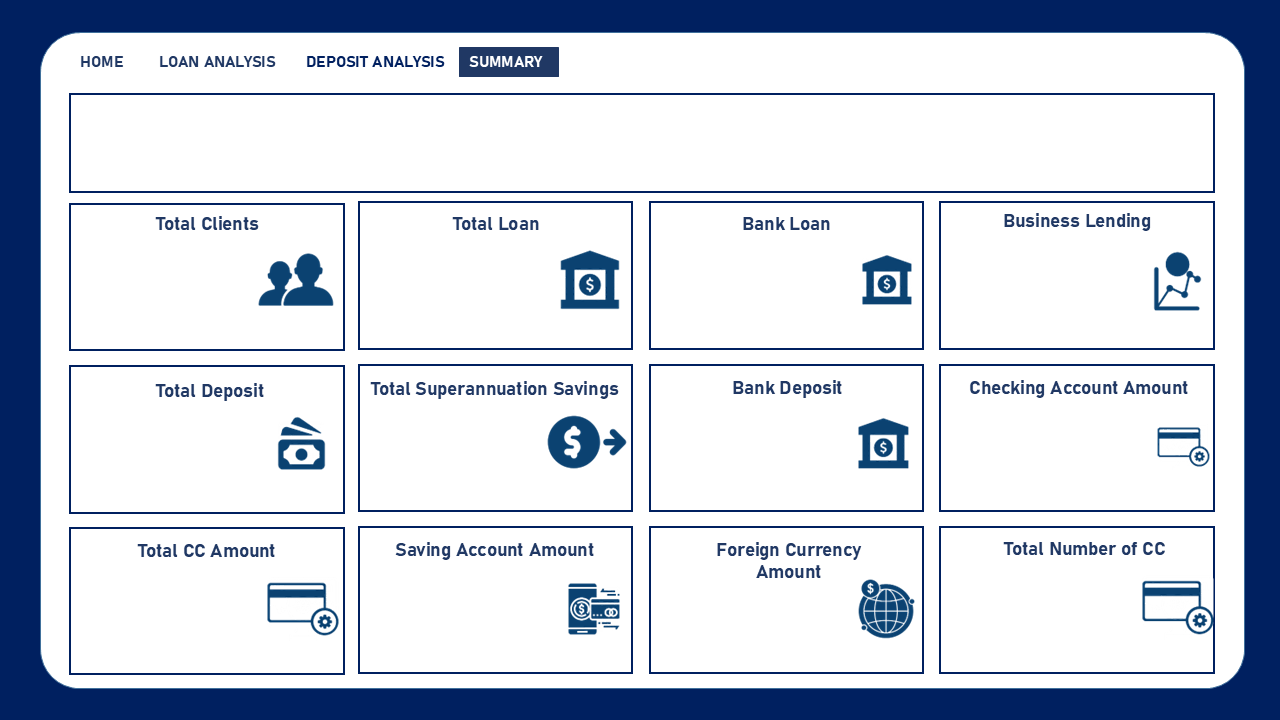

What the dashboard file says about the page in this screenshot:
{"tool":"powerbi","page":{"name":"Summary","canvas":[1280,720],"ordinal":3},"visuals":[{"type":"card","fields":{"Values":["CountNonNull(banking-clients.Name)"]},"box":[73.6,248.5,176.1,72.4],"z":0},{"type":"card","fields":{"Values":["banking-clients.Total Loan"]},"box":[376.4,248.5,176.1,72.4],"z":1000},{"type":"card","fields":{"Values":["banking-clients.Total deposit"]},"box":[73.6,408.3,176,72.1],"z":2000},{"type":"card","fields":{"Values":["Sum(banking-clients.Superannuation Savings)"]},"box":[378,415.5,173.1,59.2],"z":3000},{"type":"actionButton","box":[61.5,48.3,78.4,29],"z":4000},{"type":"actionButton","box":[149.6,48.3,136.3,29],"z":5000},{"type":"actionButton","box":[292.9,46.2,152.9,30.3],"z":6000},{"type":"slicer","fields":{"Values":["banking-clients.Year"]},"box":[822.4,111.1,369.3,64.9],"z":7000},{"type":"slicer","fields":{"Values":["banking-clients.GenderId"]},"box":[73.6,111.1,385.2,64.9],"z":8000},{"type":"slicer","fields":{"Values":["banking-clients.IAId"]},"box":[445.8,111.1,369.3,64.9],"z":9000},{"type":"card","fields":{"Values":["Sum(banking-clients.Bank Loans)"]},"box":[690.1,254.6,148.4,59.1],"z":10000},{"type":"card","fields":{"Values":["Sum(banking-clients.Saving Accounts)"]},"box":[379.4,582.9,173.1,59.2],"z":11000},{"type":"card","fields":{"Values":["Sum(banking-clients.Credit Card Balance)"]},"box":[76.5,582.9,173.1,59.2],"z":12000},{"type":"card","fields":{"Values":["Sum(banking-clients.Foreign Currency Account)"]},"box":[678.1,582.9,173.1,59.2],"z":13000},{"type":"card","fields":{"Values":["Sum(banking-clients.Bank Deposits)"]},"box":[665.1,415.5,173.1,59.2],"z":14000},{"type":"card","fields":{"Values":["Sum(banking-clients.Amount of Credit Cards)"]},"box":[958,582.9,173.1,59.2],"z":15000},{"type":"card","fields":{"Values":["Sum(banking-clients.Checking Accounts)"]},"box":[958,415.5,173.1,59.2],"z":16000},{"type":"card","fields":{"Values":["Sum(banking-clients.Business Lending)"]},"box":[958,248.2,173.1,59.2],"z":17000}]}

Visuals, with their boxes in screenshot pixels (x1, y1, x2, y2), scaled from the page's 1280x720 canvas onto the 1280x720 screenshot:
card - CountNonNull(banking-clients.Name): bbox=(74, 248, 250, 321)
card - banking-clients.Total Loan: bbox=(376, 248, 552, 321)
card - banking-clients.Total deposit: bbox=(74, 408, 250, 480)
card - Sum(banking-clients.Superannuation Savings): bbox=(378, 416, 551, 475)
actionButton: bbox=(62, 48, 140, 77)
actionButton: bbox=(150, 48, 286, 77)
actionButton: bbox=(293, 46, 446, 76)
slicer - banking-clients.Year: bbox=(822, 111, 1192, 176)
slicer - banking-clients.GenderId: bbox=(74, 111, 459, 176)
slicer - banking-clients.IAId: bbox=(446, 111, 815, 176)
card - Sum(banking-clients.Bank Loans): bbox=(690, 255, 838, 314)
card - Sum(banking-clients.Saving Accounts): bbox=(379, 583, 552, 642)
card - Sum(banking-clients.Credit Card Balance): bbox=(76, 583, 250, 642)
card - Sum(banking-clients.Foreign Currency Account): bbox=(678, 583, 851, 642)
card - Sum(banking-clients.Bank Deposits): bbox=(665, 416, 838, 475)
card - Sum(banking-clients.Amount of Credit Cards): bbox=(958, 583, 1131, 642)
card - Sum(banking-clients.Checking Accounts): bbox=(958, 416, 1131, 475)
card - Sum(banking-clients.Business Lending): bbox=(958, 248, 1131, 307)
